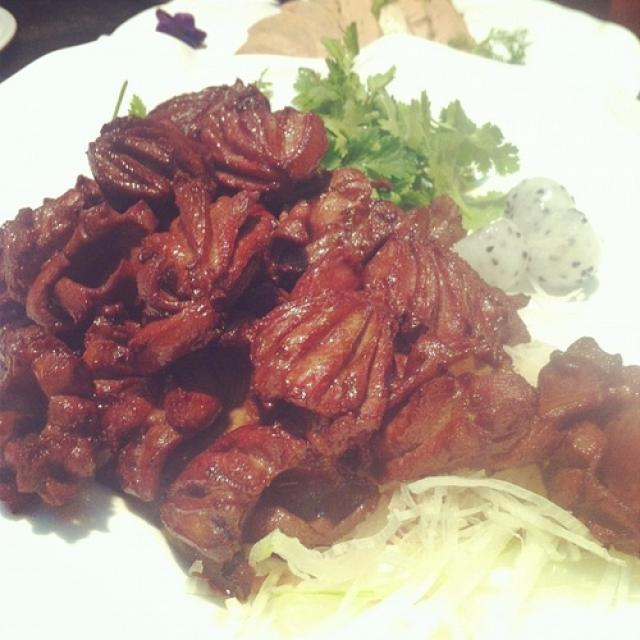烧串烤肉: (9, 23, 621, 616)
